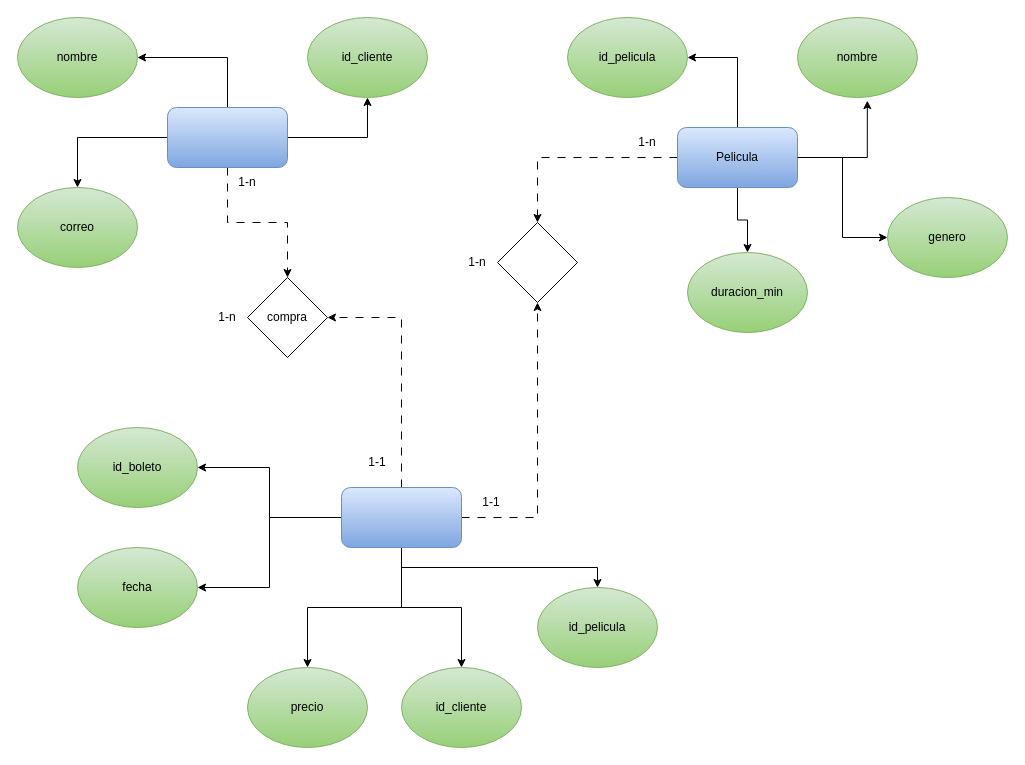
This 1025x765 diagram has some shape labels left out. Each missing label, with the centre of its shape:
"Boleto" belongs at [401,517].
"Cliente" belongs at [227,137].
"vende" belongs at [537,262].
